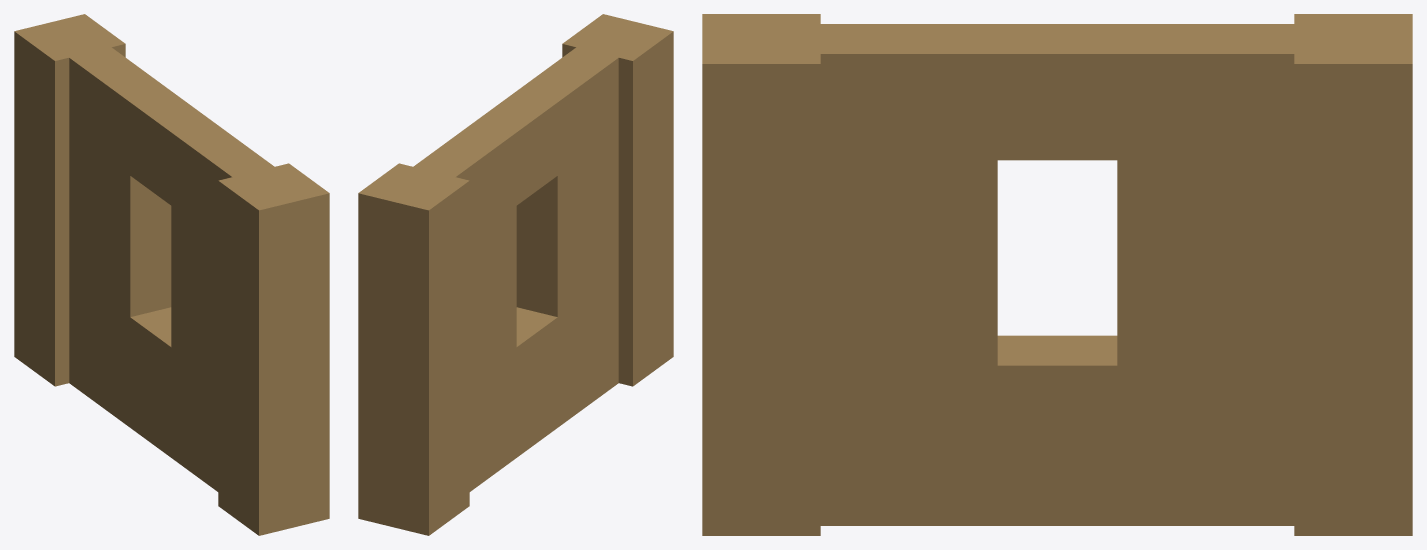
File: wood_window_square_01.glb
The picture shows the model from 3 angles, left to right: view 1: azimuth 30°, elevation 25°; view 2: azimuth 150°, elevation 25°; view 3: azimuth 270°, elevation 25°; orthographic projection. The views are drawn at different scales.
Parts seen in each view (by area): view 1: Mesh1 Wood_Window_Square Model; view 2: Mesh1 Wood_Window_Square Model; view 3: Mesh1 Wood_Window_Square Model.
Part boxes in pixels (<box>): Mesh1 Wood_Window_Square Model: <box>14,14,329,535</box>; Mesh1 Wood_Window_Square Model: <box>358,14,673,535</box>; Mesh1 Wood_Window_Square Model: <box>702,14,1412,535</box>.
Bounding box in the file's own units: 0.5 × 2.2 × 3.
